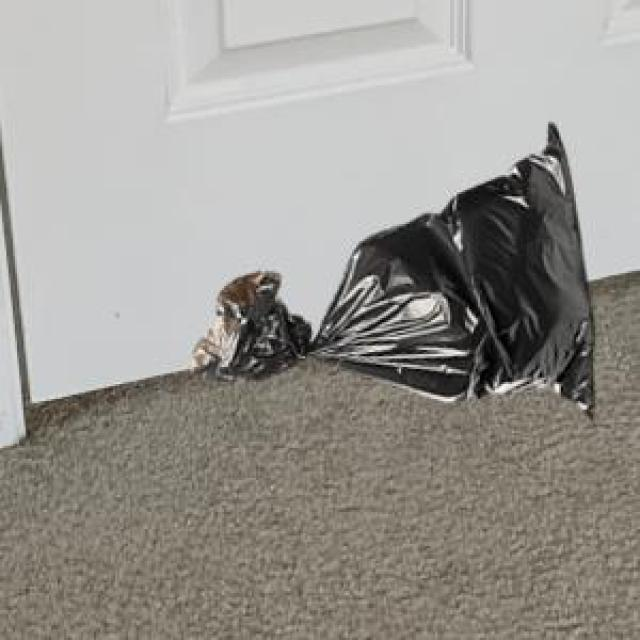miscellaneous trash: (188, 120, 591, 416)
